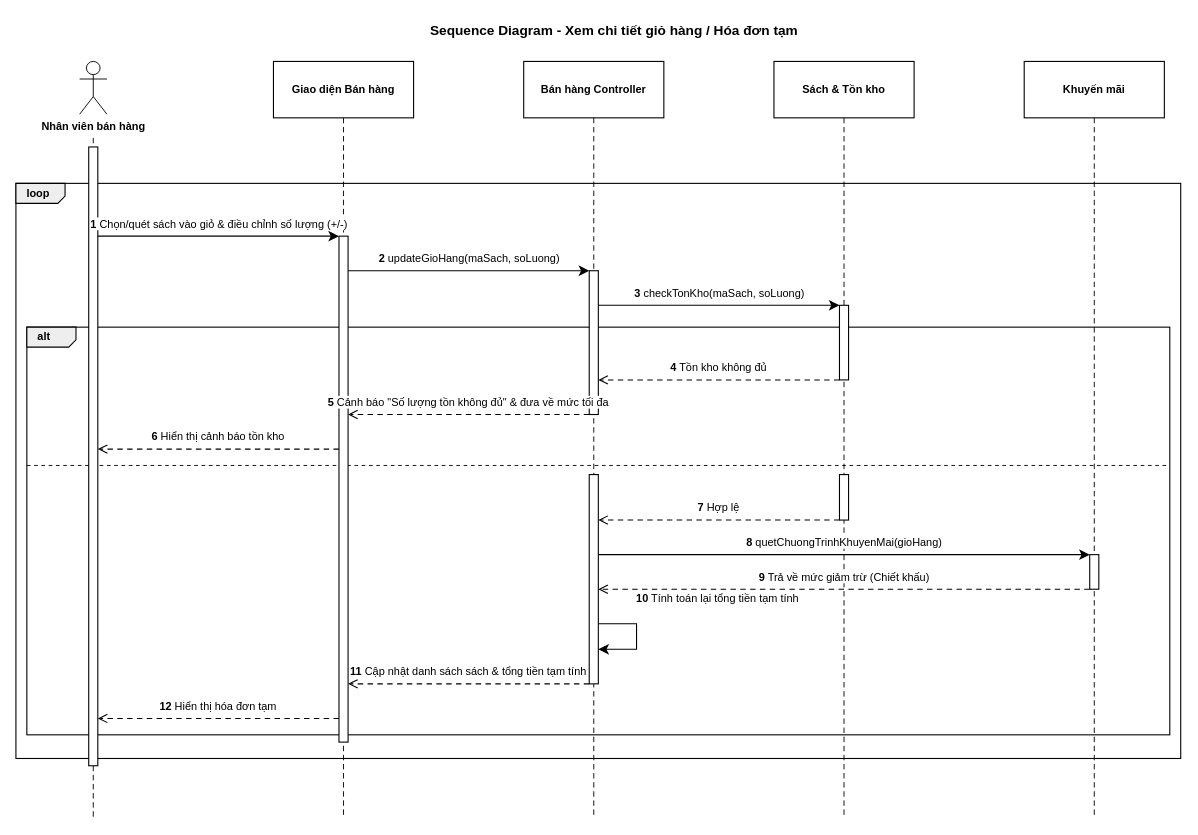
The diagram is 1198 pixels wide and 835 high, and some of its shapes have lost their labels. Here are the shapes that lost their labels. From the top down, the box of each, then its label:
(70, 185, 309, 201): [Còn sách cần thêm hoặc điều chỉnh]
(81, 329, 269, 345): [Số lượng mua vượt tồn kho]
(34, 468, 152, 484): [Tồn kho hợp lệ]
